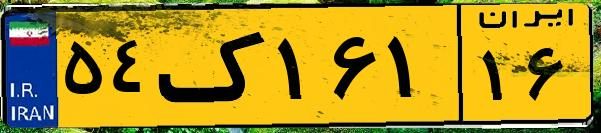1: (270, 28, 330, 110), (385, 28, 445, 110), (475, 38, 525, 113)
4: (110, 28, 158, 98)
5: (57, 26, 110, 100)
6: (330, 28, 385, 110), (525, 38, 570, 115)
ک: (158, 12, 270, 120)
